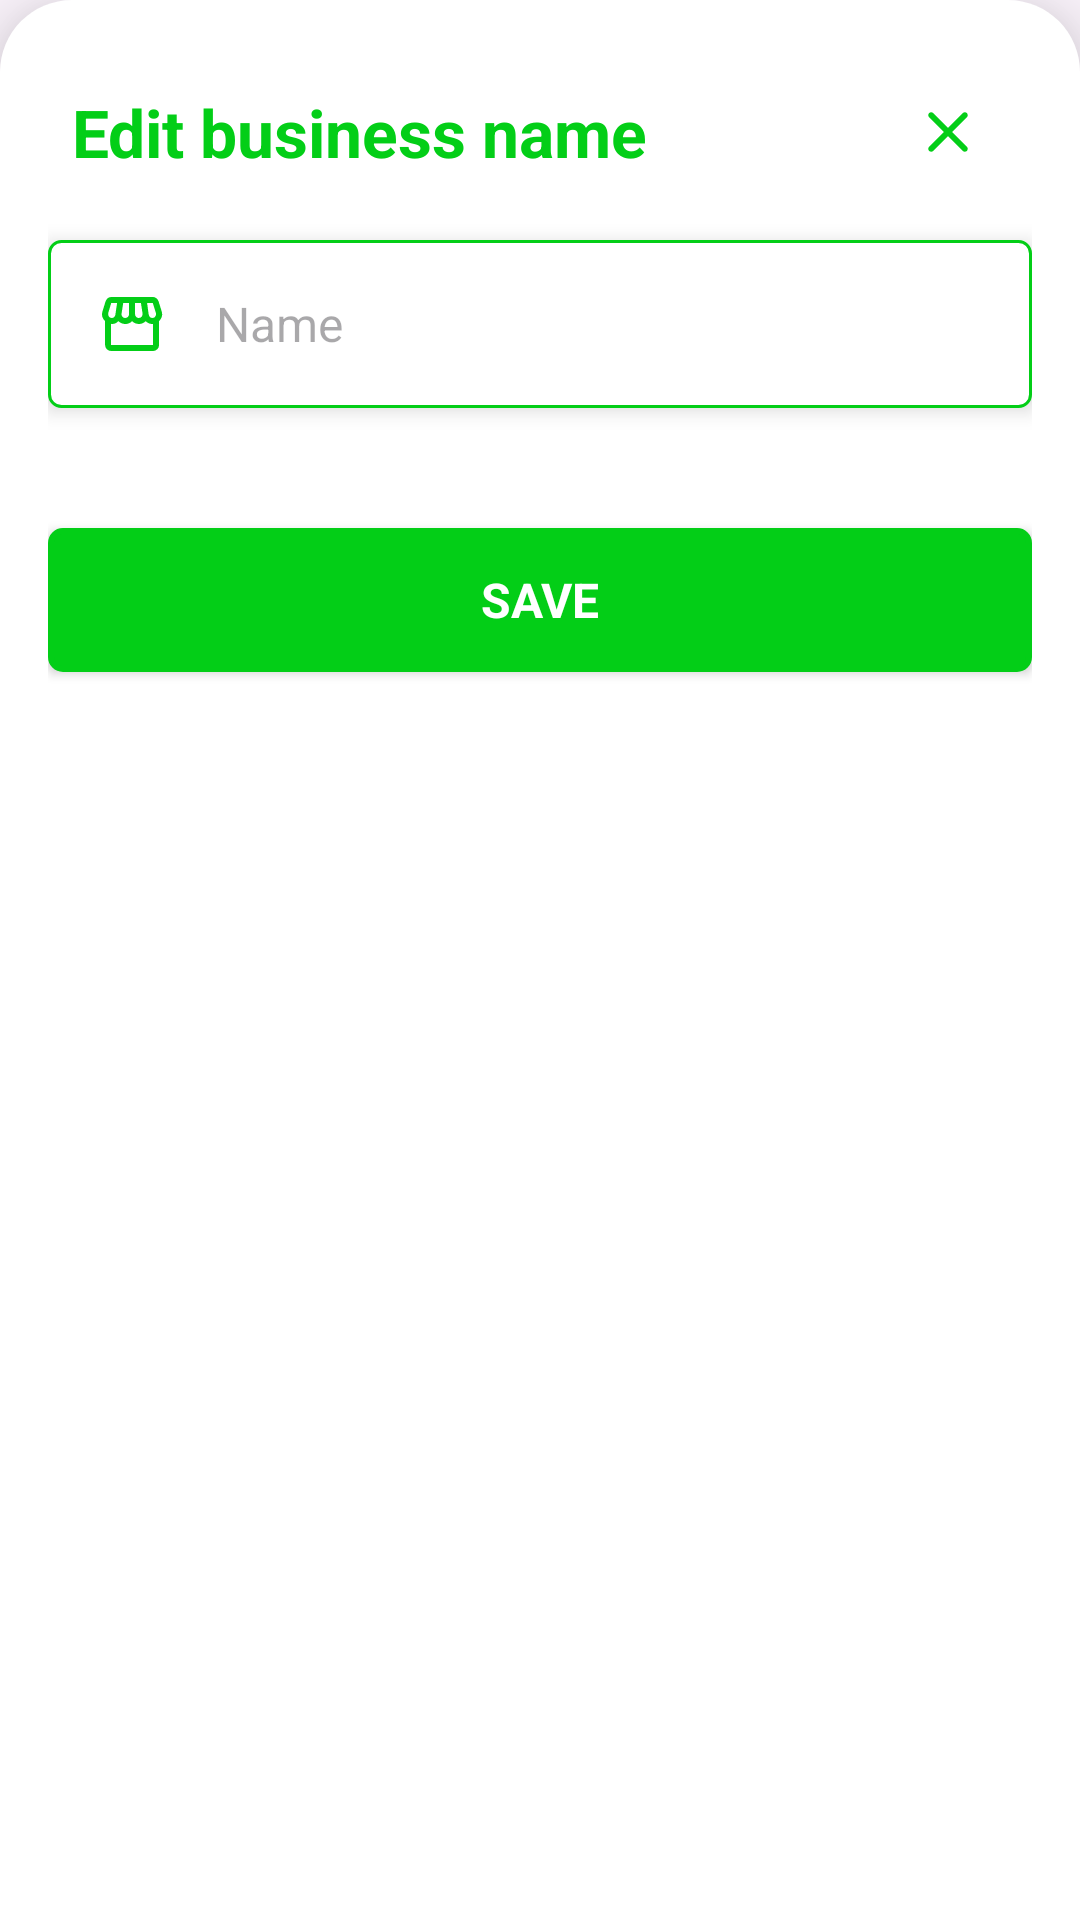

Named icons in this screenshot (1080*1920) and their centers, [x,y]:
close: [948,132]
